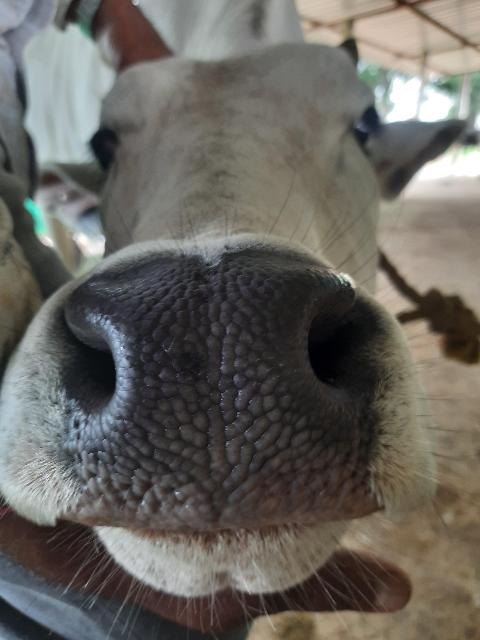Muzzle: (88, 276, 332, 522)
